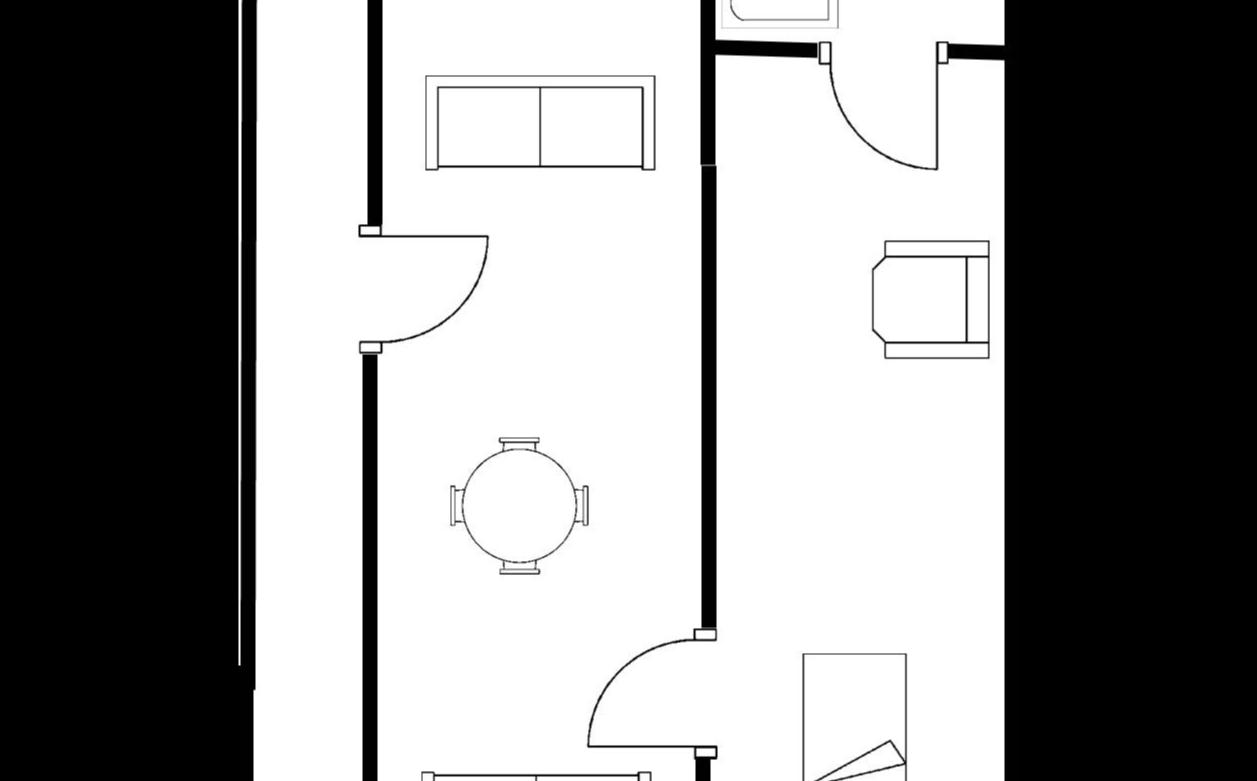bed: (795, 645, 917, 781)
round_table: (445, 431, 597, 580)
sofa: (418, 70, 662, 178)
tub: (719, 0, 845, 36)
